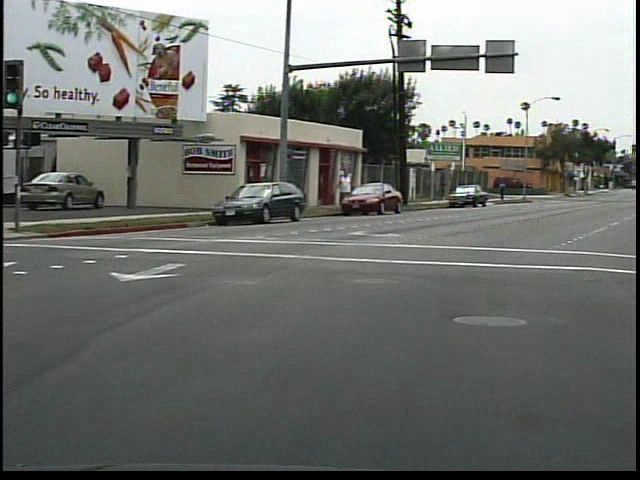person: (338, 163, 361, 212), (500, 177, 512, 205)
